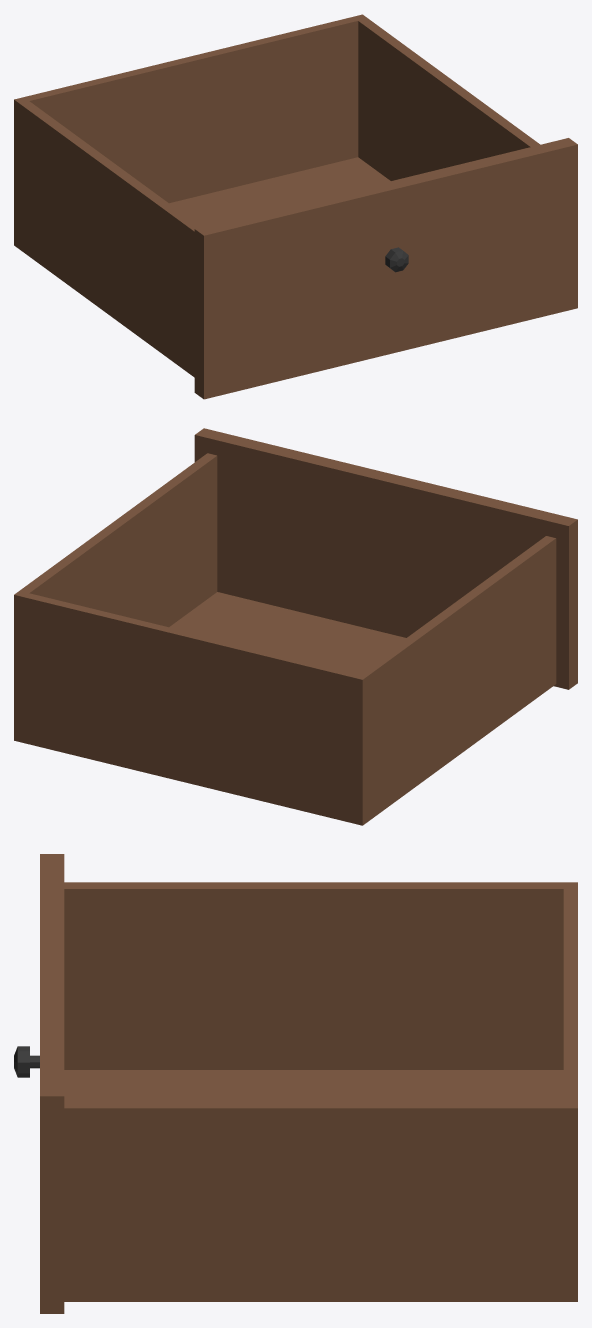
File: Door3_C2_05.fbx
3 renders of one model, top to bottom at view 1: azimuth 30°, elevation 25°; view 2: azimuth 150°, elevation 25°; view 3: azimuth 270°, elevation 25°, orthographic. The views are drawn at different scales.
Parts seen in each view (by area): view 1: Door3_C2_05; view 2: Door3_C2_05; view 3: Door3_C2_05.
Boxes of the visible parts, box(x1,y1,x2,y2) form: Door3_C2_05: box(14, 14, 577, 399); Door3_C2_05: box(14, 428, 577, 825); Door3_C2_05: box(14, 854, 577, 1313).
Bounding box in the file's own units: 59 × 24.68 × 58.03.
